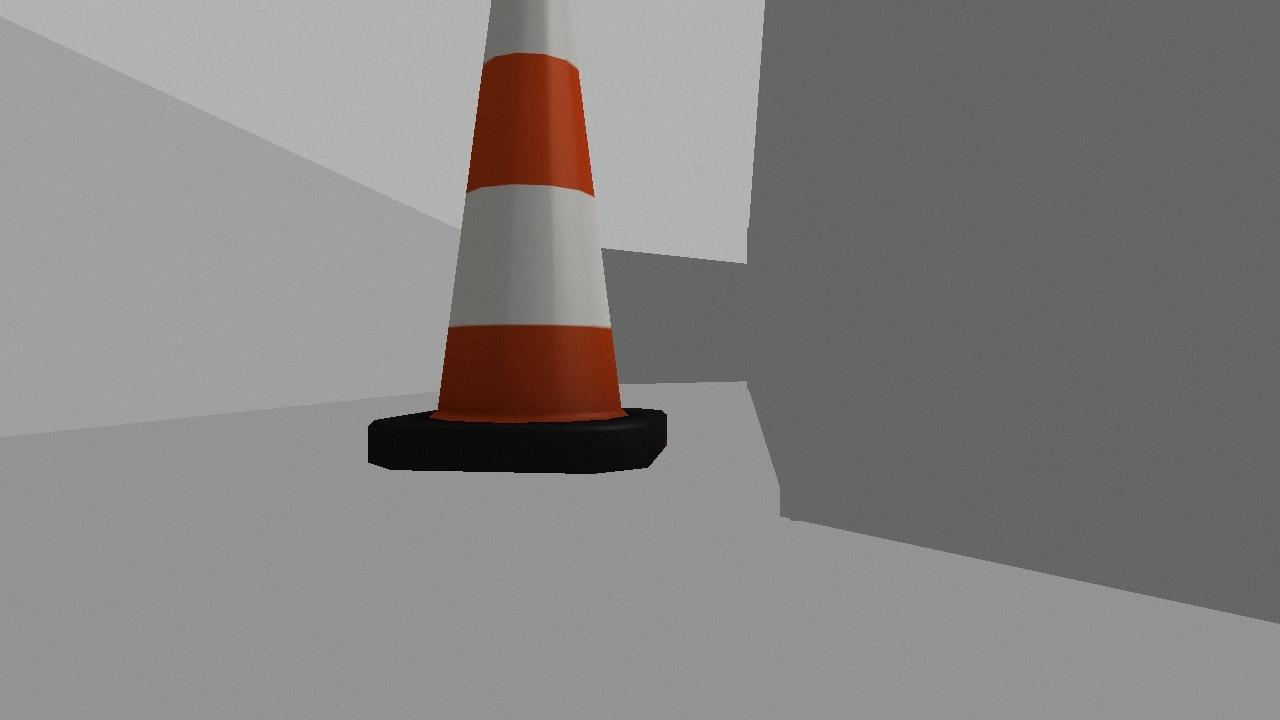cone_barrel: (367, 0, 668, 473)
